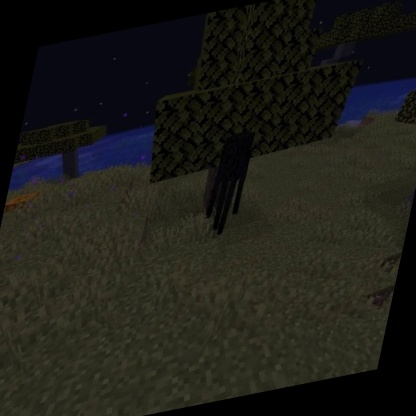enderman: (198, 127, 260, 242)
